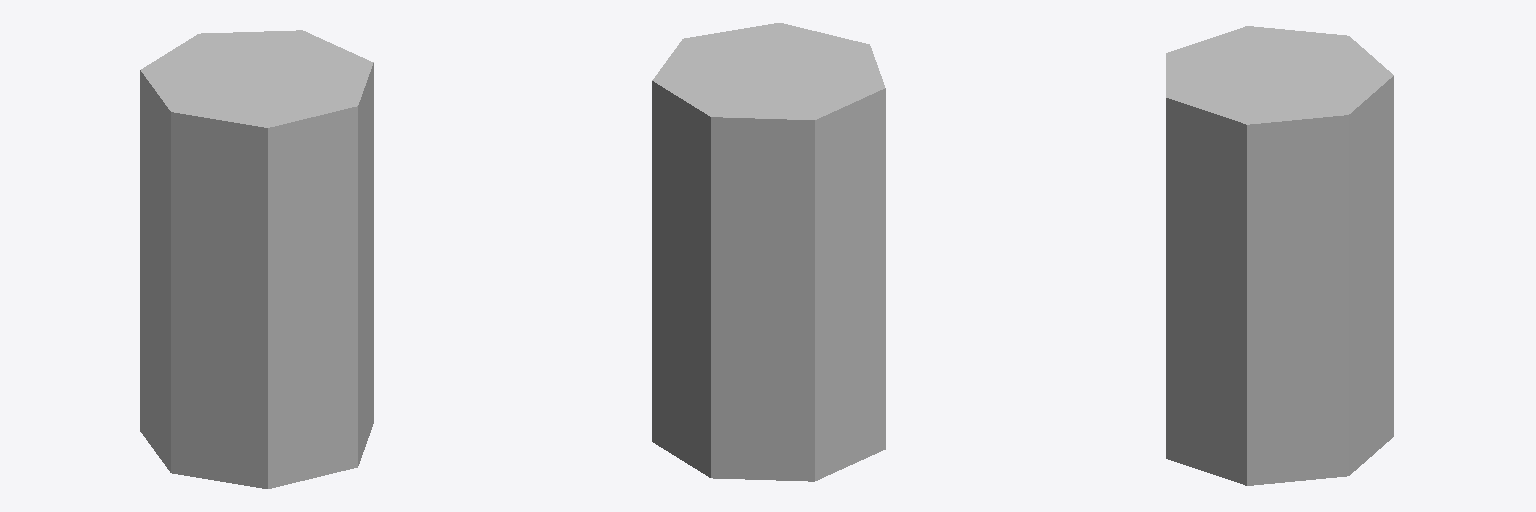
Rendered from can.obj.
3 views of the same model, side by side, from view 1: azimuth 30°, elevation 25°; view 2: azimuth 150°, elevation 25°; view 3: azimuth 270°, elevation 25° (orthographic).
Visible parts, largest first — view 1: cylinder; view 2: cylinder; view 3: cylinder.
Part boxes in pixels (x1,y1,x2,y2): cylinder: (140, 30, 373, 488); cylinder: (652, 23, 885, 481); cylinder: (1166, 26, 1393, 485).
Size of the model in its own units: 0.6716 by 1.14 by 0.6547.